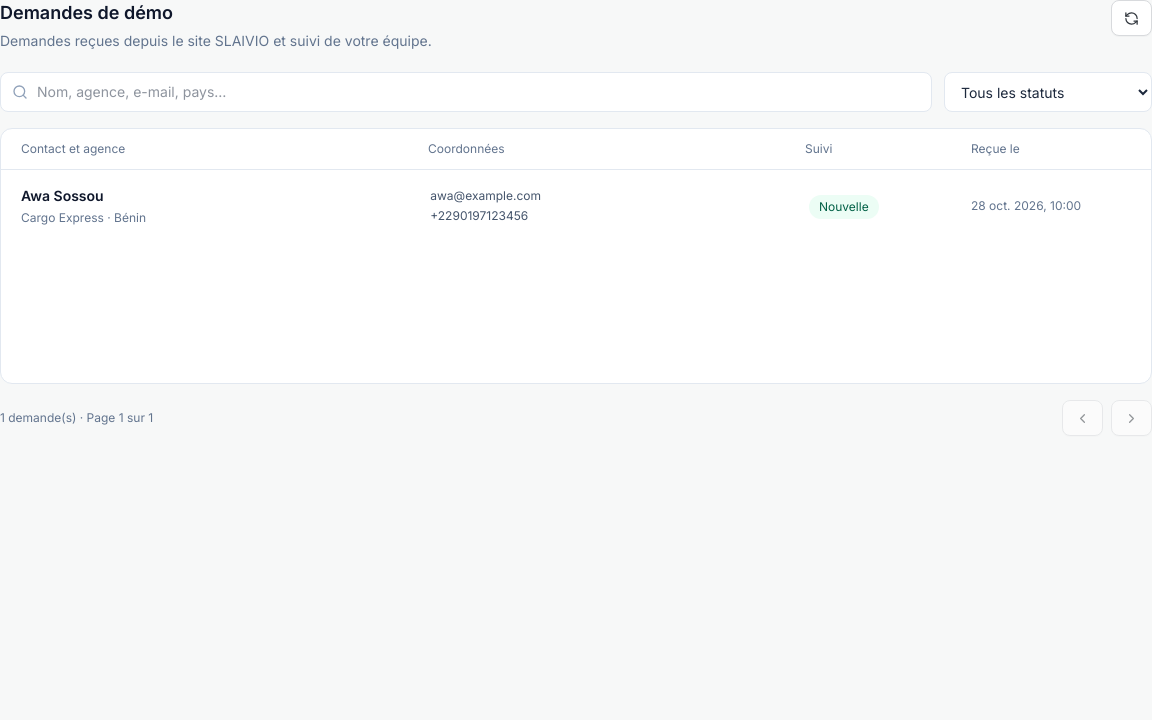
Test: allows consultation without presenting mutation actions to a read-only operator
The width and height of the screenshot is (1152, 720).
Click the button with aria-label "Ouvrir la demande de Awa Sossou": {"x": 62, "y": 196} [1,170,1151,242]
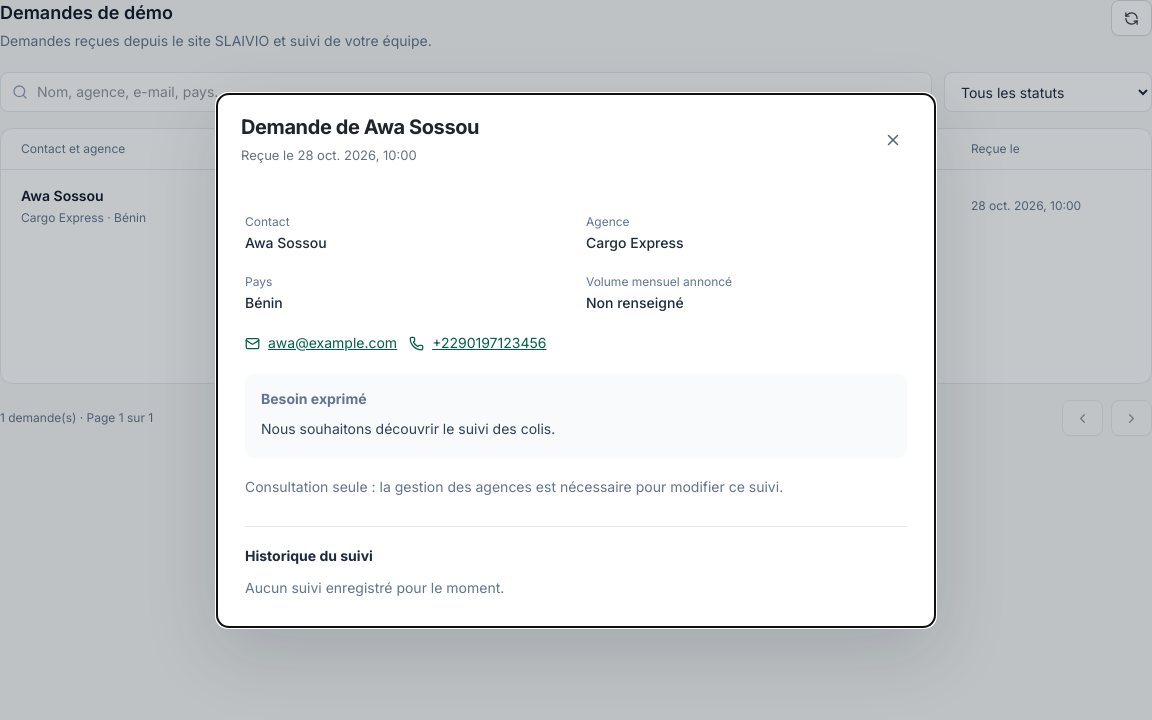
Expected: the dialog shows "Consultation seule", [245,478,783,496]
